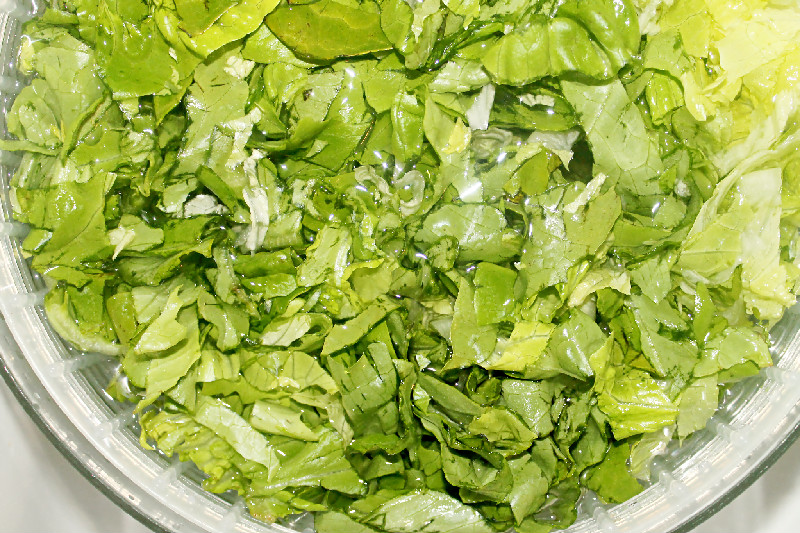chopped lettuce: (48, 1, 762, 464)
